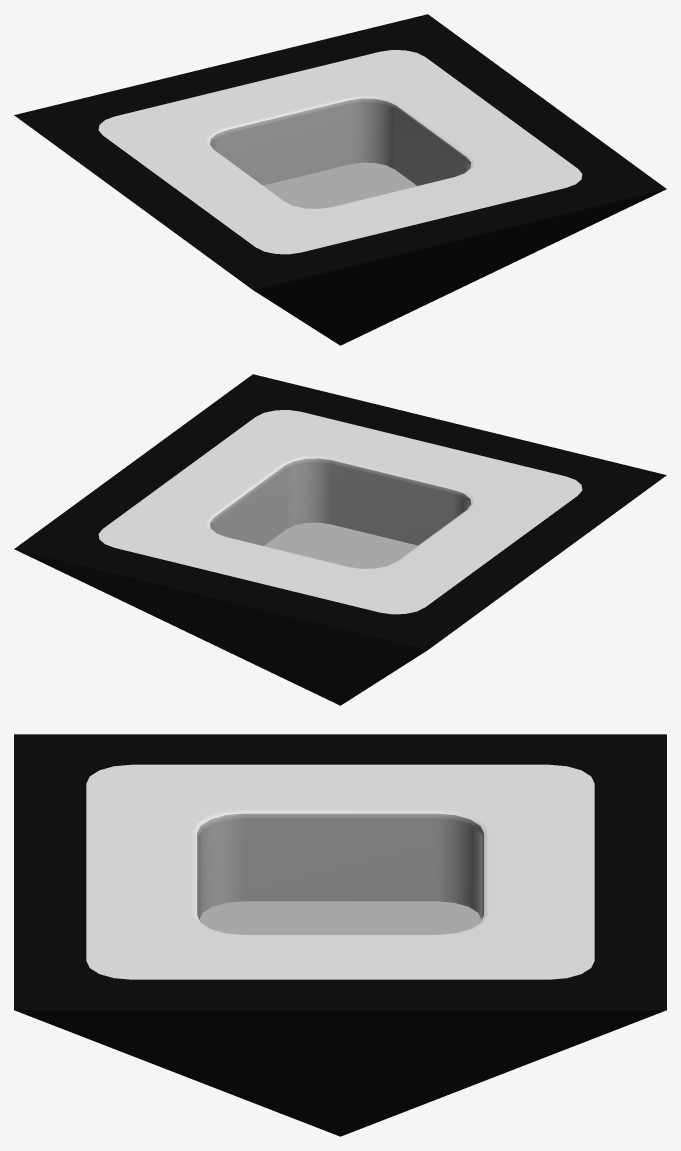
The model's file is Cell_White_V2.fbx.
The picture shows the model from 3 angles, top to bottom: view 1: azimuth 30°, elevation 25°; view 2: azimuth 150°, elevation 25°; view 3: azimuth 270°, elevation 25°; orthographic projection. The views are drawn at different scales.
Visible parts, largest first — view 1: Cell_White_v2; view 2: Cell_White_v2; view 3: Cell_White_v2.
Boxes of the visible parts, x1,y1,x2,y2 form: Cell_White_v2: (14, 14, 666, 345); Cell_White_v2: (14, 374, 666, 705); Cell_White_v2: (14, 734, 666, 1136).
Bounding box in the file's own units: 112 × 50.06 × 112.
